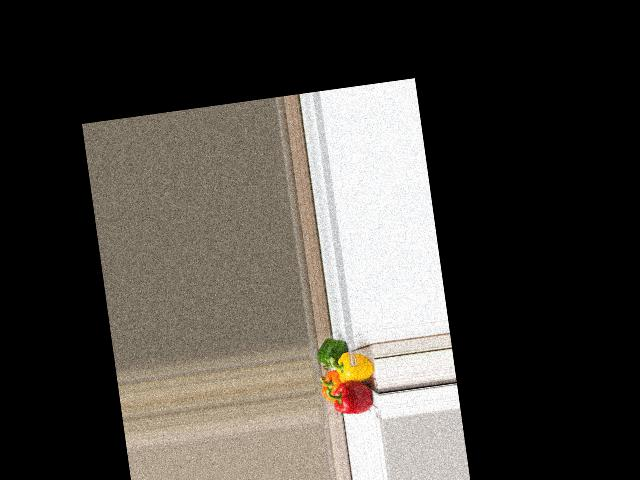bell_pepper: (318, 367, 345, 403)
